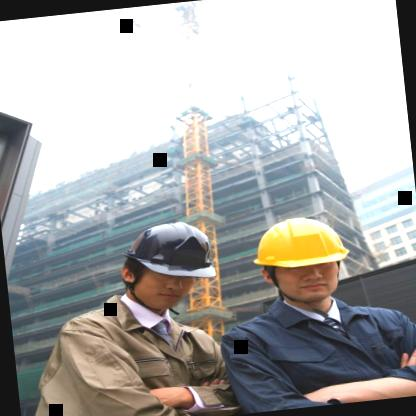helmet: (240, 199, 374, 319), (109, 209, 228, 314)
